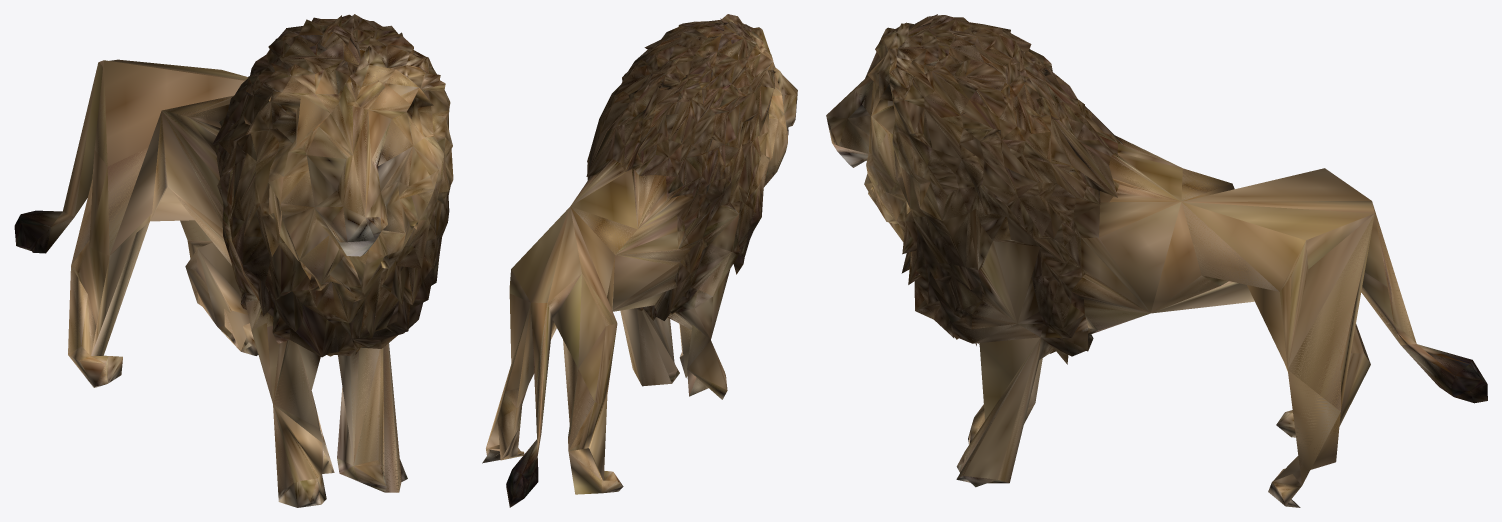
The model's file is loewe.glb.
3 views of the same model, side by side, from view 1: azimuth 30°, elevation 25°; view 2: azimuth 150°, elevation 25°; view 3: azimuth 270°, elevation 25° (orthographic). The views are drawn at different scales.
Size of the model in its own units: 0.6221 by 1.38 by 1.89.
1 material, 1 textured.
